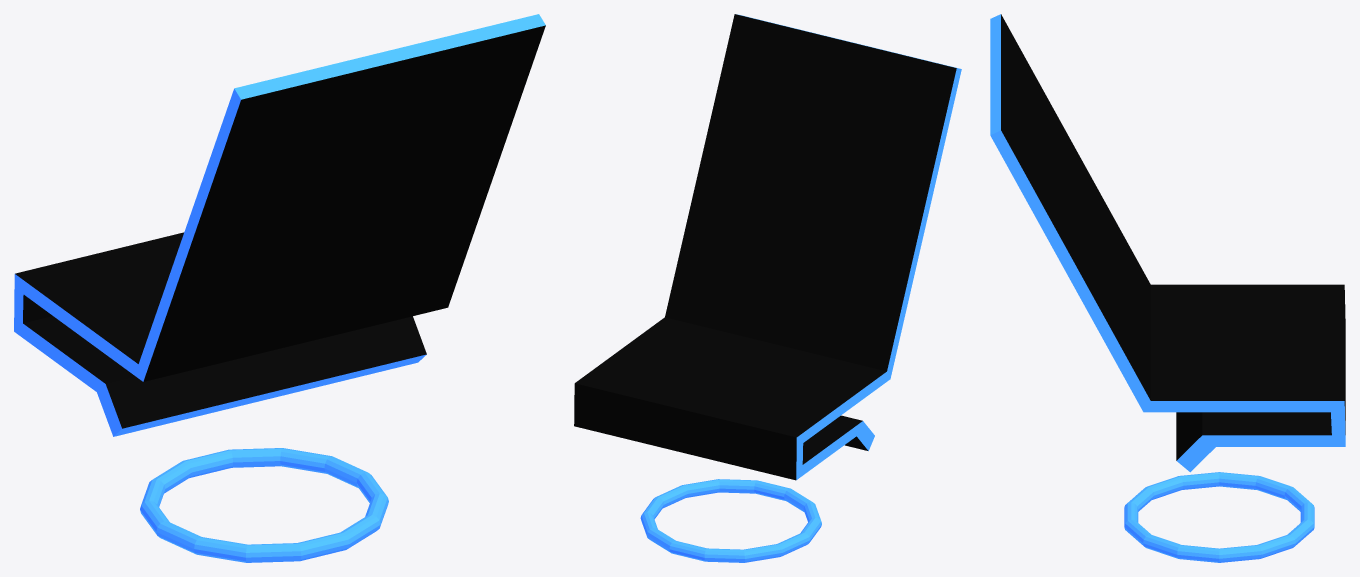
The model's file is chair.glb.
3 renders of one model, left to right at view 1: azimuth 30°, elevation 25°; view 2: azimuth 150°, elevation 25°; view 3: azimuth 270°, elevation 25°, orthographic. The views are drawn at different scales.
Visible parts, largest first — view 1: Torus.001; view 2: Torus.001; view 3: Torus.001.
Boxes of the visible parts, bbox=[...] form: Torus.001: bbox=[14, 14, 545, 562]; Torus.001: bbox=[574, 14, 961, 562]; Torus.001: bbox=[990, 14, 1345, 562].
Bounding box in the file's own units: 1.42 × 2.53 × 1.83.
